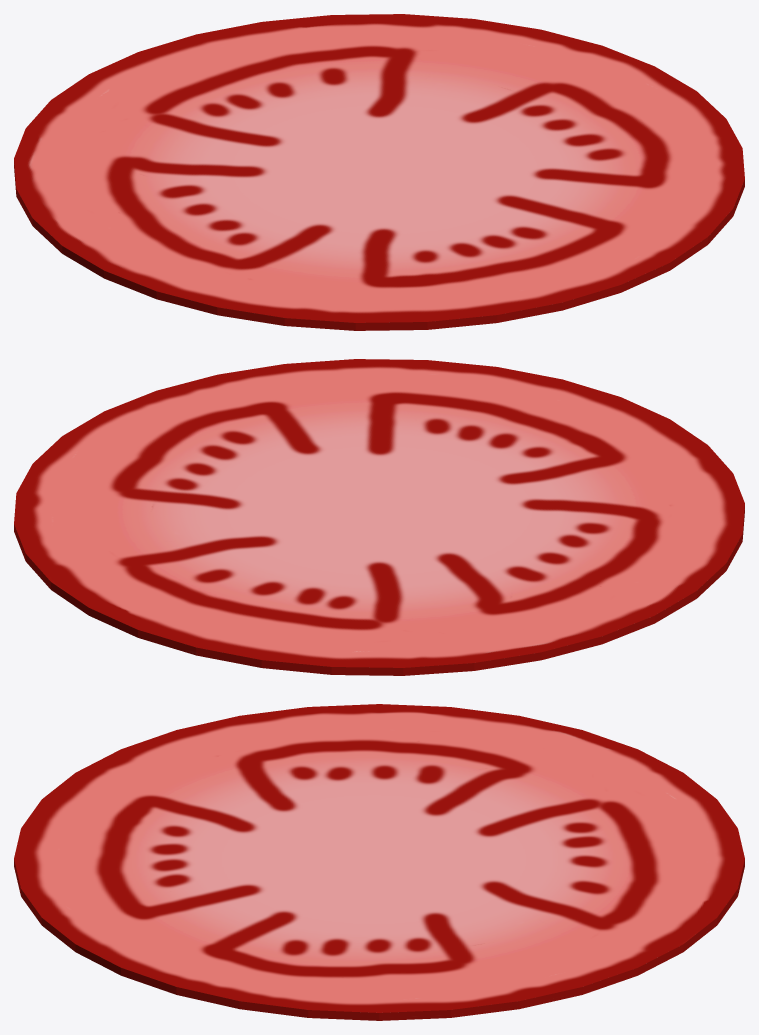
The model's file is tomato.glb.
The picture shows the model from 3 angles, top to bottom: view 1: azimuth 30°, elevation 25°; view 2: azimuth 150°, elevation 25°; view 3: azimuth 270°, elevation 25°; orthographic projection.
Visible parts, largest first — view 1: Cylinder; view 2: Cylinder; view 3: Cylinder.
Part boxes in pixels (left/top/right/bottom): Cylinder: left=14, top=14, right=744, bottom=330; Cylinder: left=14, top=359, right=744, bottom=675; Cylinder: left=14, top=704, right=744, bottom=1020.
Bounding box in the file's own units: 16.58 × 0.2 × 16.58.
1 material, 1 textured.
